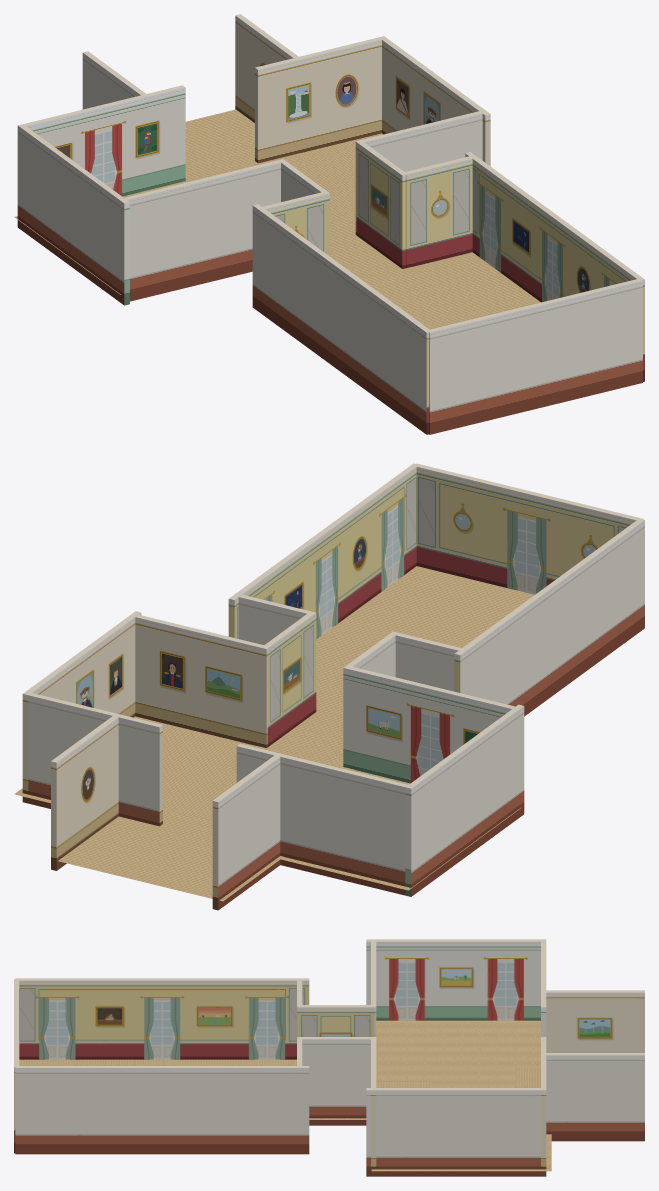
Rendered from QuintaBolivar.fbx.
The picture shows the model from 3 angles, top to bottom: view 1: azimuth 30°, elevation 25°; view 2: azimuth 150°, elevation 25°; view 3: azimuth 270°, elevation 25°; orthographic projection. The views are drawn at different scales.
Parts seen in each view (by area): view 1: fondocomedor, ladodercomedor, lado3gransalon, lado2gransalon, ladoizcomedor, Ladodegransalon, lado4gransalon, Pisocomedor, ladocomedor2, ladoizgransalon, entradacomedor2, pisoentrada (+7 smaller); view 2: ladodercomedor, fondocomedor, lado4gransalon, ladoizcomedor, ladogransalon, Ladodegransalon, lado3gransalon, Pisocomedor, lado2gransalon, pisoentrada, ladoentrada2, ladoentrada (+7 smaller); view 3: ladoizcomedor, ladodercomedor, ladoizgransalon, Ladodegransalon, pisogransalon, ladoentrada, ladoentrada2, entradacomedor2, entradacomedor1, Pisocomedor, lado2gransalon, ladogransalon (+5 smaller).
Part boxes in pixels (x1=…): fondocomedor: x1=427, y1=278, x2=642, y2=434; ladodercomedor: x1=252, y1=204, x2=431, y2=434; lado3gransalon: x1=119, y1=159, x2=285, y2=301; lado2gransalon: x1=255, y1=36, x2=386, y2=163; ladoizcomedor: x1=465, y1=152, x2=644, y2=381; Ladodegransalon: x1=17, y1=125, x2=129, y2=305; lado4gransalon: x1=19, y1=85, x2=185, y2=196; Pisocomedor: x1=362, y1=252, x2=540, y2=329; ladocomedor2: x1=405, y1=156, x2=473, y2=268; ladoizgransalon: x1=381, y1=36, x2=490, y2=166; entradacomedor2: x1=356, y1=141, x2=406, y2=268; pisoentrada: x1=141, y1=109, x2=315, y2=193; ladodercomedor: x1=454, y1=518, x2=644, y2=716; fondocomedor: x1=414, y1=463, x2=643, y2=594; lado4gransalon: x1=236, y1=743, x2=413, y2=895; ladoizcomedor: x1=228, y1=463, x2=418, y2=639; ladogransalon: x1=130, y1=613, x2=267, y2=747; Ladodegransalon: x1=405, y1=704, x2=524, y2=896; lado3gransalon: x1=343, y1=665, x2=519, y2=783; Pisocomedor: x1=316, y1=566, x2=534, y2=717; lado2gransalon: x1=23, y1=691, x2=162, y2=826; pisoentrada: x1=58, y1=808, x2=283, y2=901; ladoentrada2: x1=212, y1=755, x2=280, y2=910; ladoentrada: x1=51, y1=716, x2=118, y2=870; ladoizcomedor: x1=15, y1=1066, x2=309, y2=1154; ladodercomedor: x1=15, y1=978, x2=309, y2=1059; ladoizgransalon: x1=366, y1=1088, x2=540, y2=1176; Ladodegransalon: x1=366, y1=939, x2=546, y2=1020; pisogransalon: x1=371, y1=1020, x2=551, y2=1171; ladoentrada: x1=546, y1=1053, x2=644, y2=1141; ladoentrada2: x1=545, y1=990, x2=644, y2=1052; entradacomedor2: x1=297, y1=1037, x2=374, y2=1125; entradacomedor1: x1=297, y1=1005, x2=374, y2=1036; Pisocomedor: x1=19, y1=1059, x2=296, y2=1065; lado2gransalon: x1=541, y1=1037, x2=546, y2=1176; ladogransalon: x1=371, y1=1037, x2=376, y2=1176.
Bounding box in the file's own units: 68.44 × 17.96 × 119.
2 materials, 2 textured.
